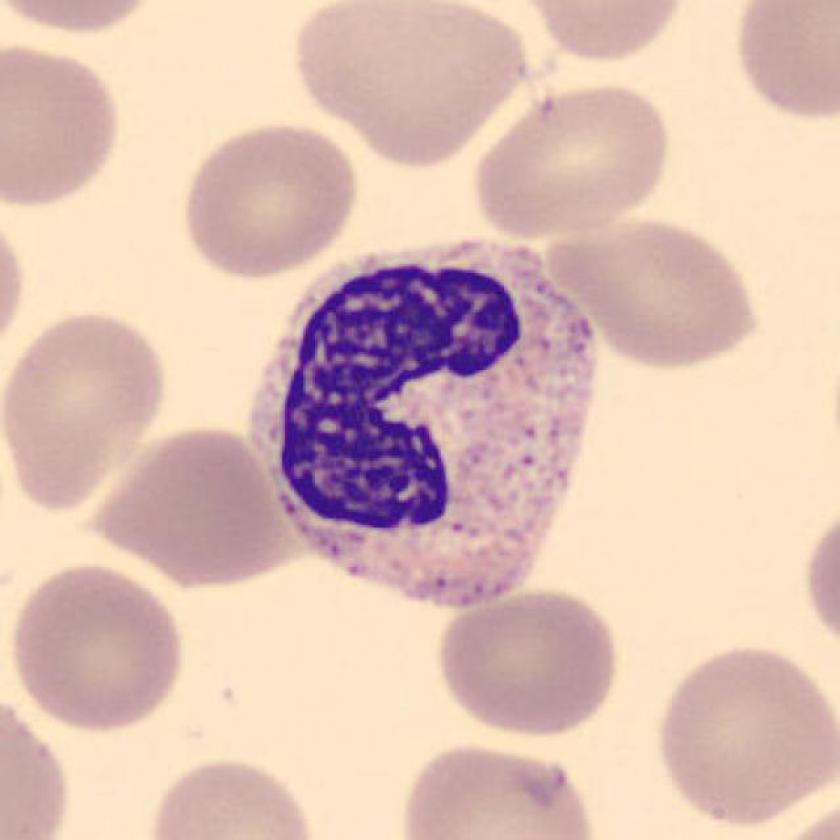neutrophil: (250, 239, 597, 605)
